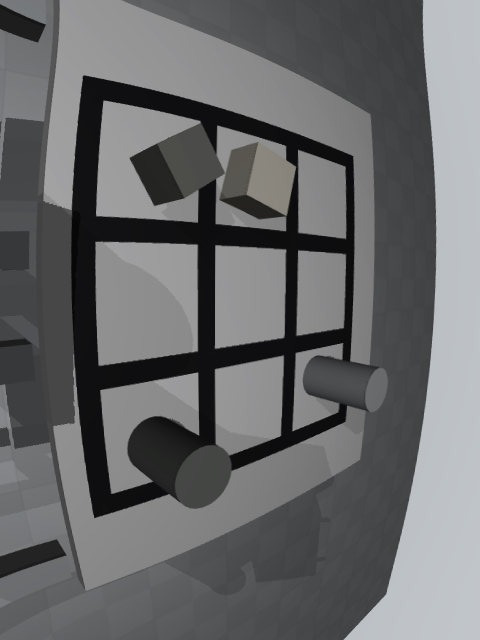can: (303, 355, 388, 412)
cube: (130, 123, 225, 206)
cylinder: (127, 416, 231, 509)
foam: (220, 142, 296, 220)
